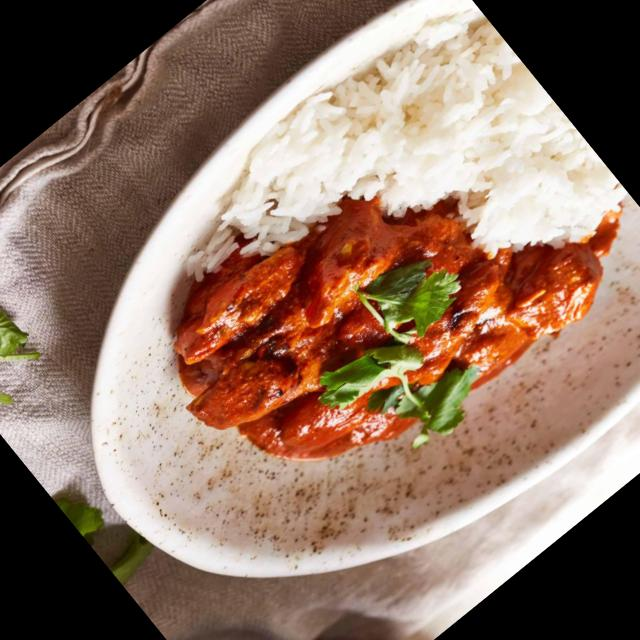chicken: (130, 138, 562, 558)
rice: (305, 0, 620, 315)
